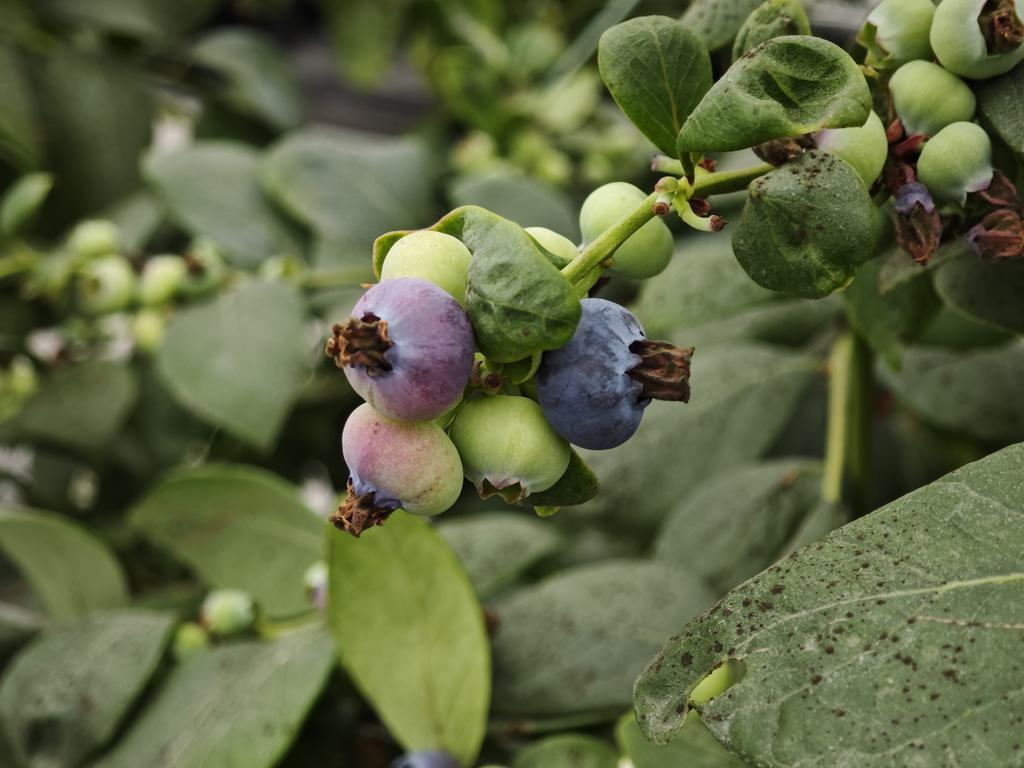Semi-RipeBlueBerry: (338, 277, 474, 417), (337, 413, 461, 533)
UnripeBlueBerry: (461, 394, 568, 500)
